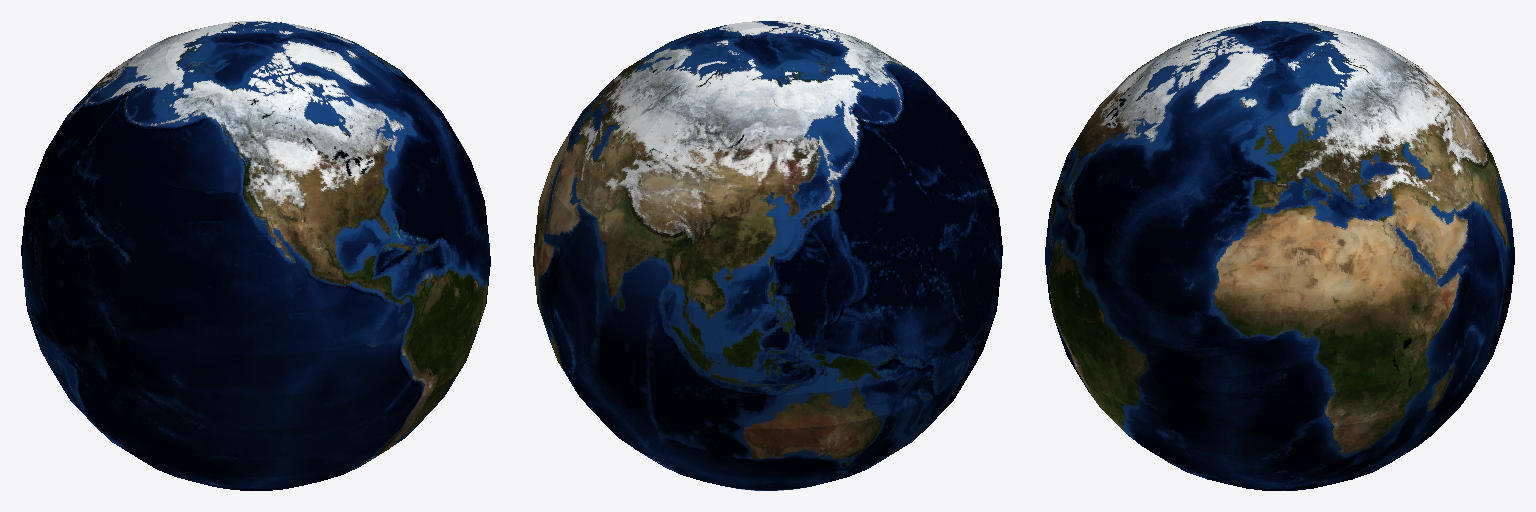
The picture shows the model from 3 angles: view 1: azimuth 30°, elevation 25°; view 2: azimuth 150°, elevation 25°; view 3: azimuth 270°, elevation 25°; orthographic projection.
Visible parts, largest first — view 1: Sphere; view 2: Sphere; view 3: Sphere.
Part boxes in pixels (left/top/right/bottom): Sphere: left=21, top=21, right=490, bottom=490; Sphere: left=533, top=21, right=1002, bottom=490; Sphere: left=1045, top=21, right=1514, bottom=490.
Size of the model in its own units: 2 by 2 by 2.
Materials: 1 (1 with a texture image).